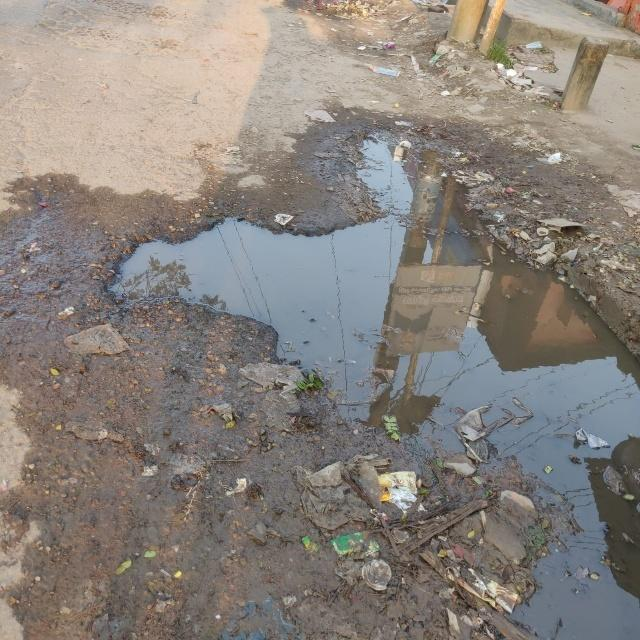Surface Erosion: (164, 50, 640, 640)
